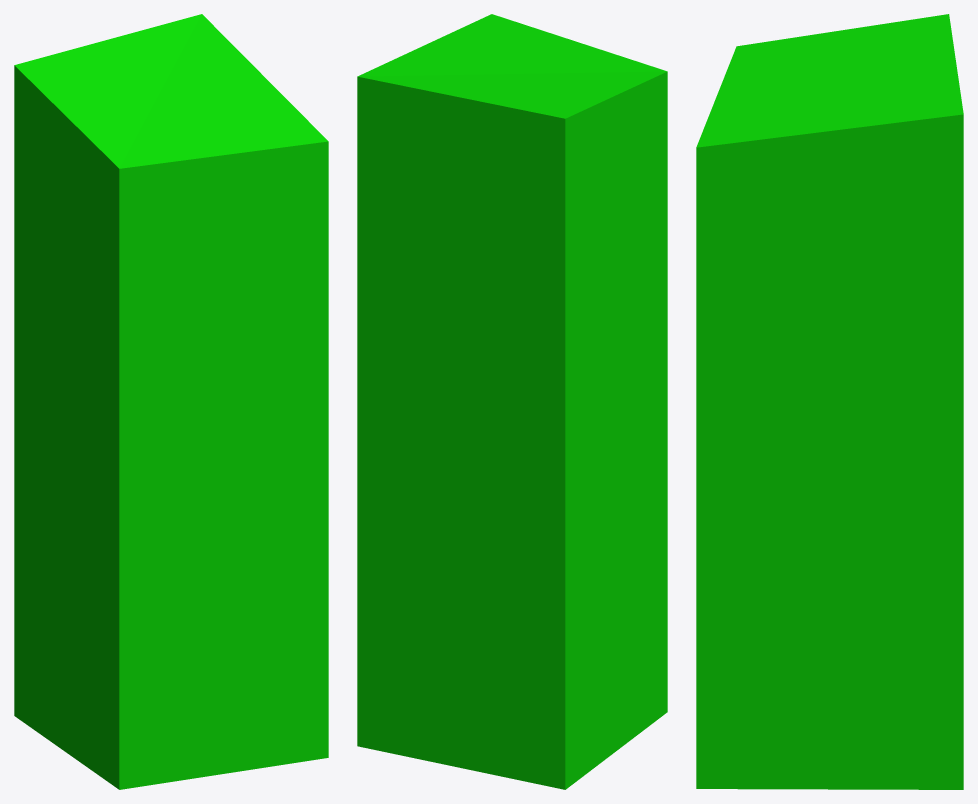
3 views of the same model, side by side, from view 1: azimuth 30°, elevation 25°; view 2: azimuth 150°, elevation 25°; view 3: azimuth 270°, elevation 25° (orthographic). The views are drawn at different scales.
Visible parts, largest first — view 1: Plane.009; view 2: Plane.009; view 3: Plane.009.
Boxes of the visible parts, box(x1,y1,x2,y2) form: Plane.009: box(14, 14, 328, 789); Plane.009: box(357, 14, 667, 789); Plane.009: box(696, 14, 963, 789).
Size of the model in its own units: 311 by 994 by 356.
